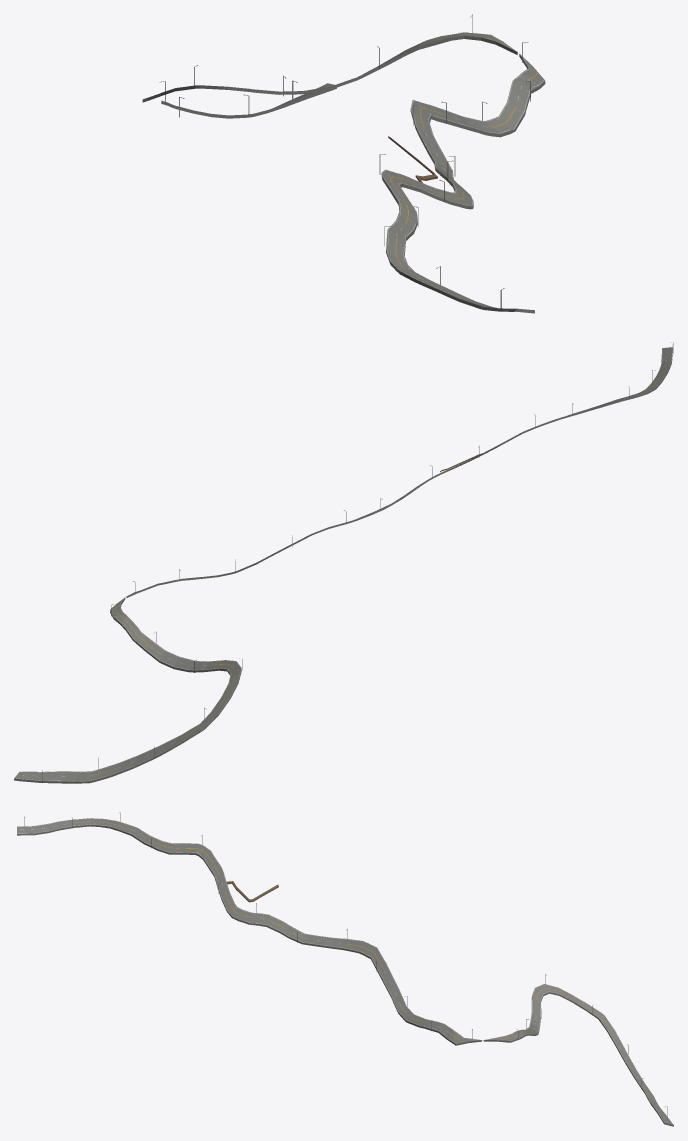
3 views of the same model, one above another, from view 1: azimuth 30°, elevation 25°; view 2: azimuth 150°, elevation 25°; view 3: azimuth 270°, elevation 25° (orthographic). The views are drawn at different scales.
Bounding box in the file's own units: 199 × 143 × 440.
